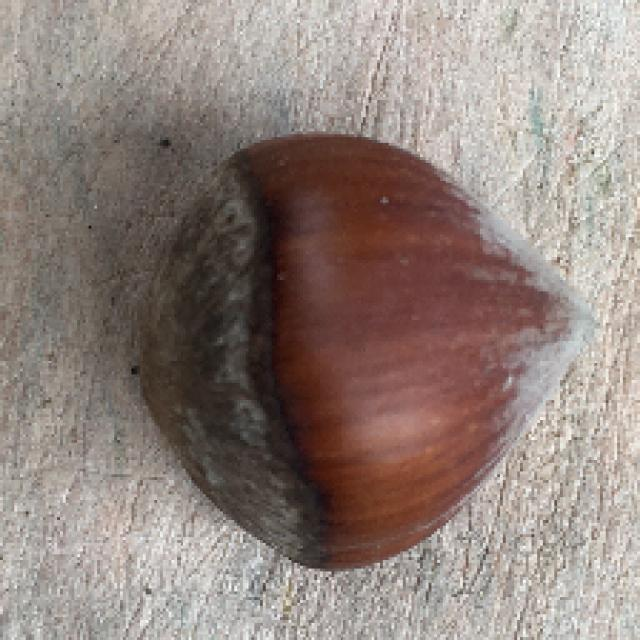qualityHazelnut: (112, 132, 597, 566)
